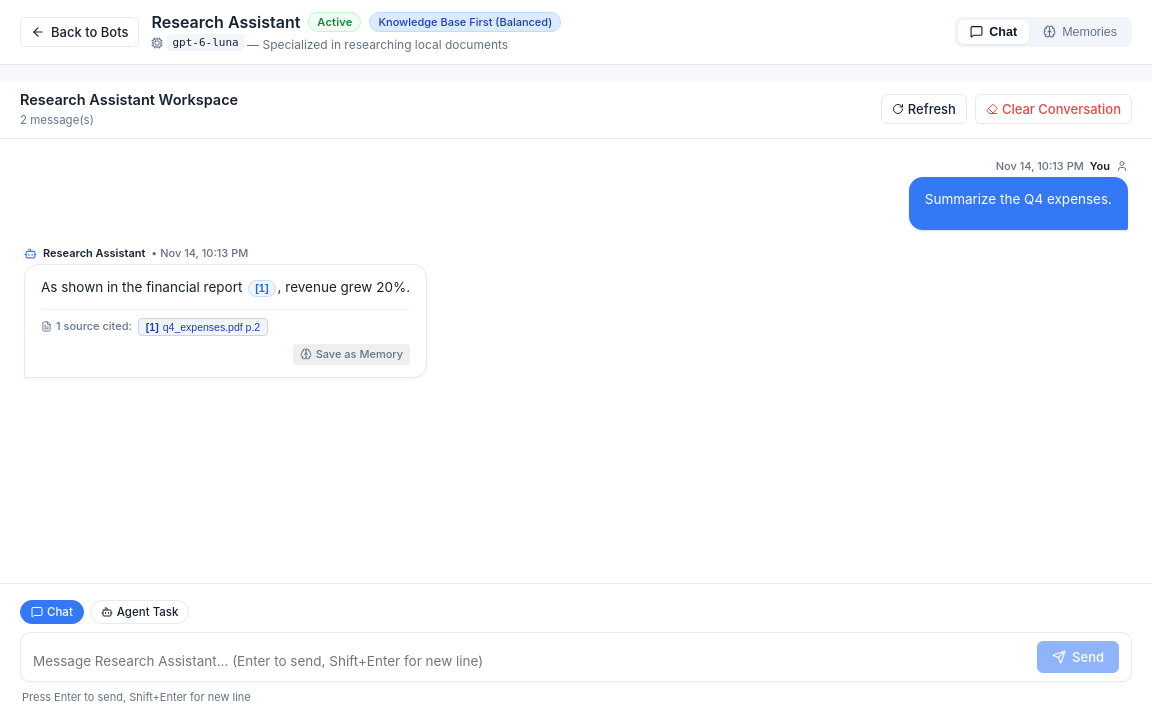
Test: Renderer: BotConversationsWorkspacePage Unified Single Conversation (Phase 12 Step 12.2) › 13. clicking citation marker resolves via Main process and opens DocumentPreviewModal
Click the button with test id "citation-marker-1" at (262, 289), box top-left (248, 280), bottom-right (276, 297)
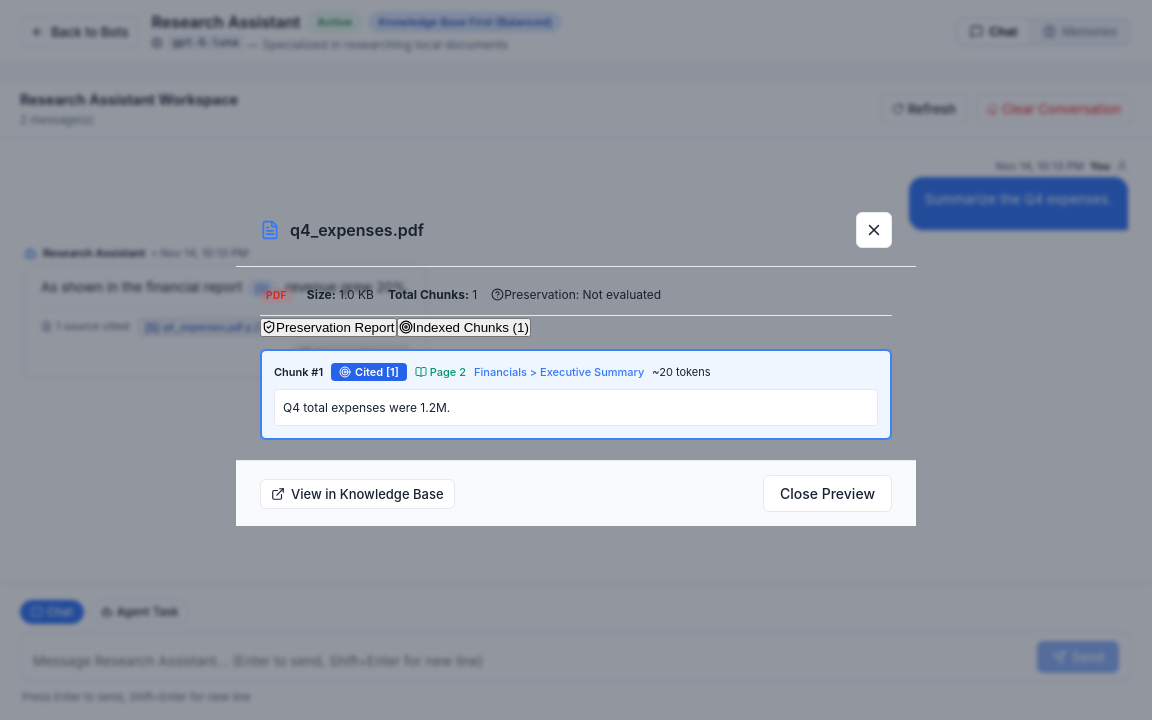
Result: the dialog with test id "document-preview-modal" is shown
Result: the heading with test id "preview-title" reads "q4_expenses.pdf" at top-left (290, 220), bottom-right (424, 240)
Result: the element with test id "chunk-cited-badge" is shown at top-left (331, 363), bottom-right (407, 381)
Click the button with test id "btn-close-preview" at (874, 230), box top-left (856, 212), bottom-right (892, 248)
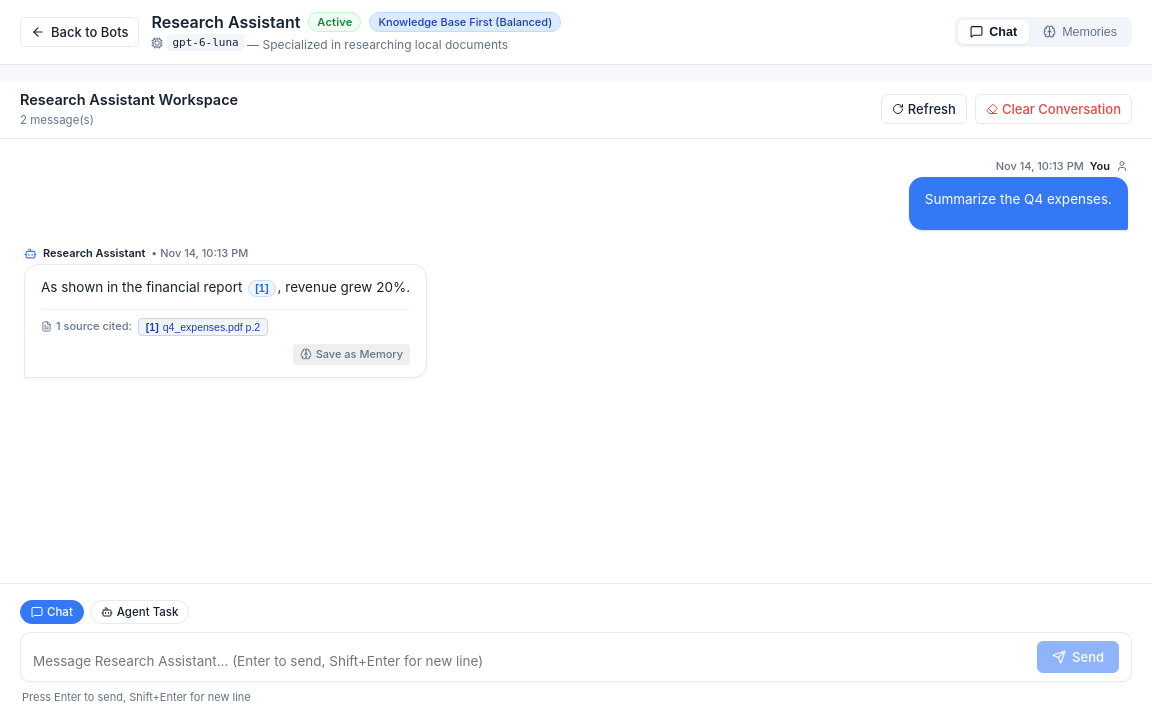
Result: the dialog with test id "document-preview-modal" is gone
